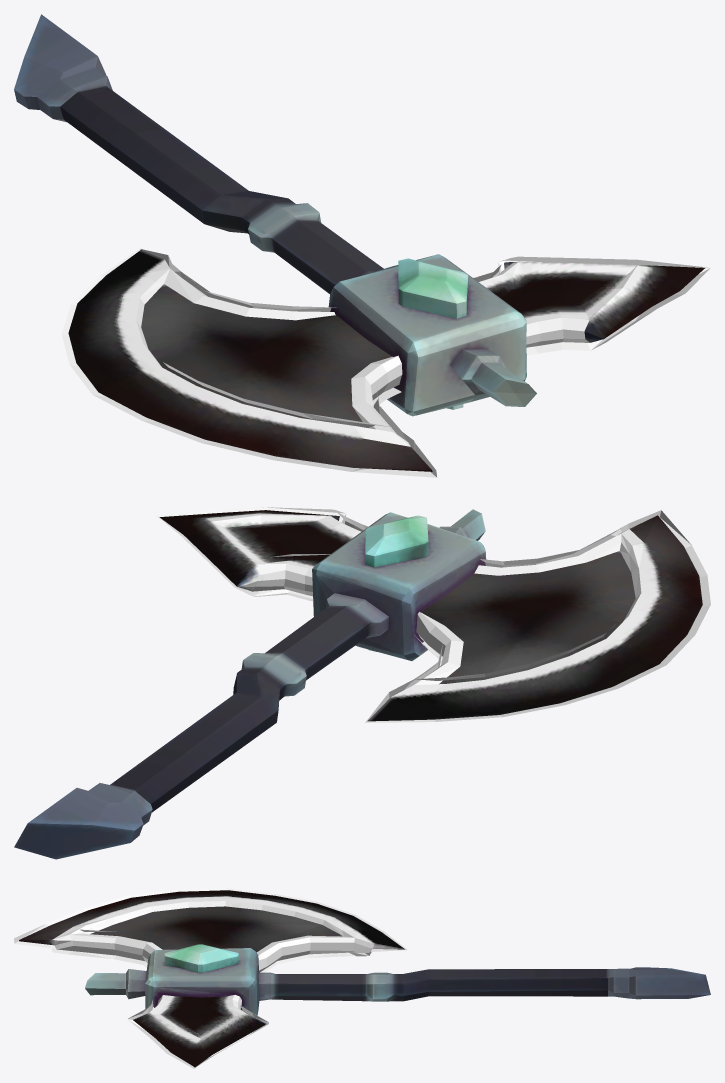
The model's file is item_energy_axe.glb.
3 views of the same model, one above another, from view 1: azimuth 30°, elevation 25°; view 2: azimuth 150°, elevation 25°; view 3: azimuth 270°, elevation 25° (orthographic). The views are drawn at different scales.
Parts seen in each view (by area): view 1: Voidlight_Axe; view 2: Voidlight_Axe; view 3: Voidlight_Axe.
Part boxes in pixels (x1,y1,x2,y2): Voidlight_Axe: (14, 14, 710, 477); Voidlight_Axe: (14, 506, 710, 859); Voidlight_Axe: (14, 888, 710, 1068).
Bounding box in the file's own units: 0.7097 × 0.1417 × 1.15.
Materials: 1 (1 with a texture image).
